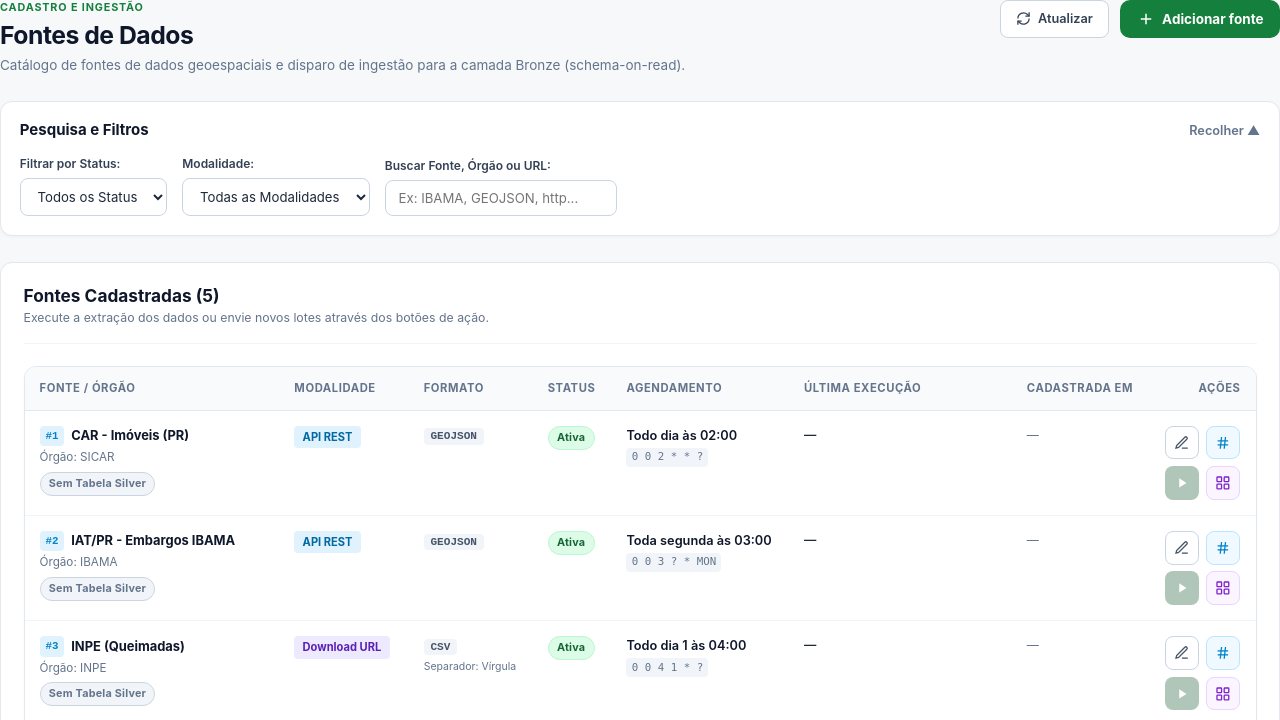
Scenario: CadastroFontes — editar e agendamento (LIZARDS-55) › com a atualização automática ligada e sem horário escolhido, o salvar fica bloqueado
This screenshot has width=1280, height=720.
Click the button with class "btn-adicionar-fonte" at (1200, 19), box x1=1120 y1=0 x2=1279 y2=38
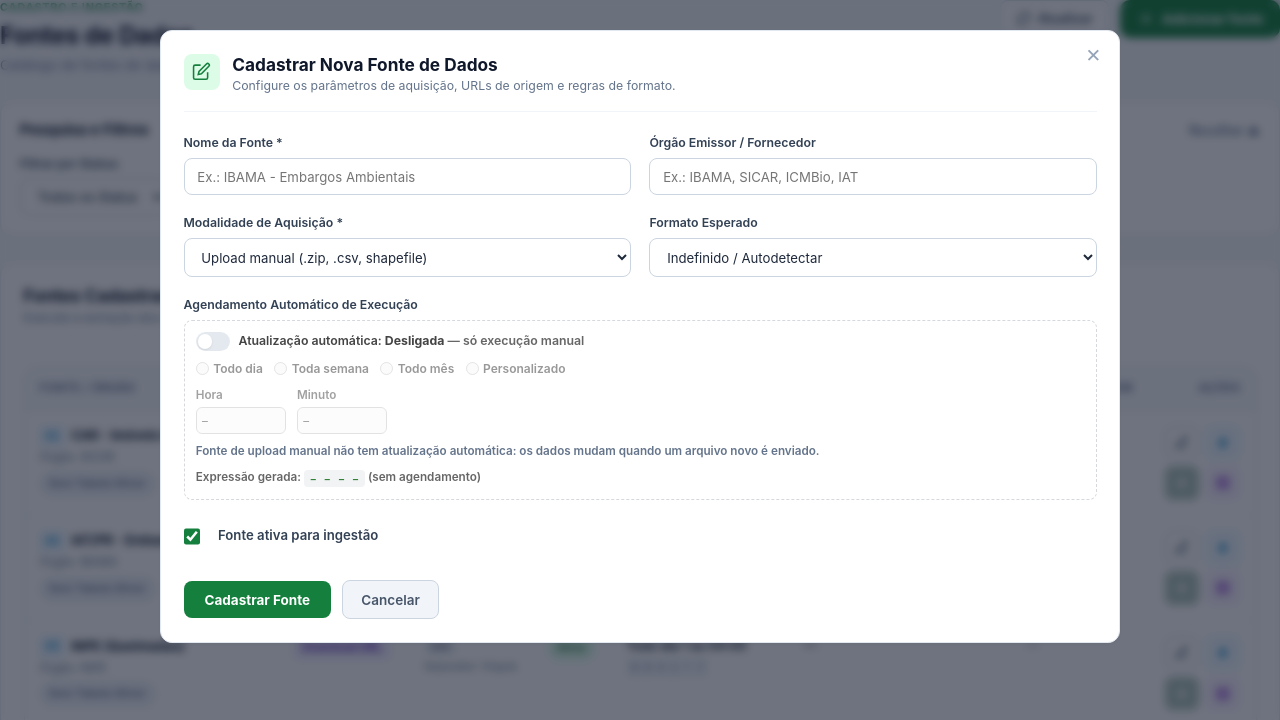
Result: the submit button is enabled at x1=184 y1=581 x2=331 y2=618
Select "API REST / GeoServer WFS" in the dropdown with class "campo-select" showing "Modalidade de Aquisição *" at (407, 258), box x1=184 y1=238 x2=631 y2=277
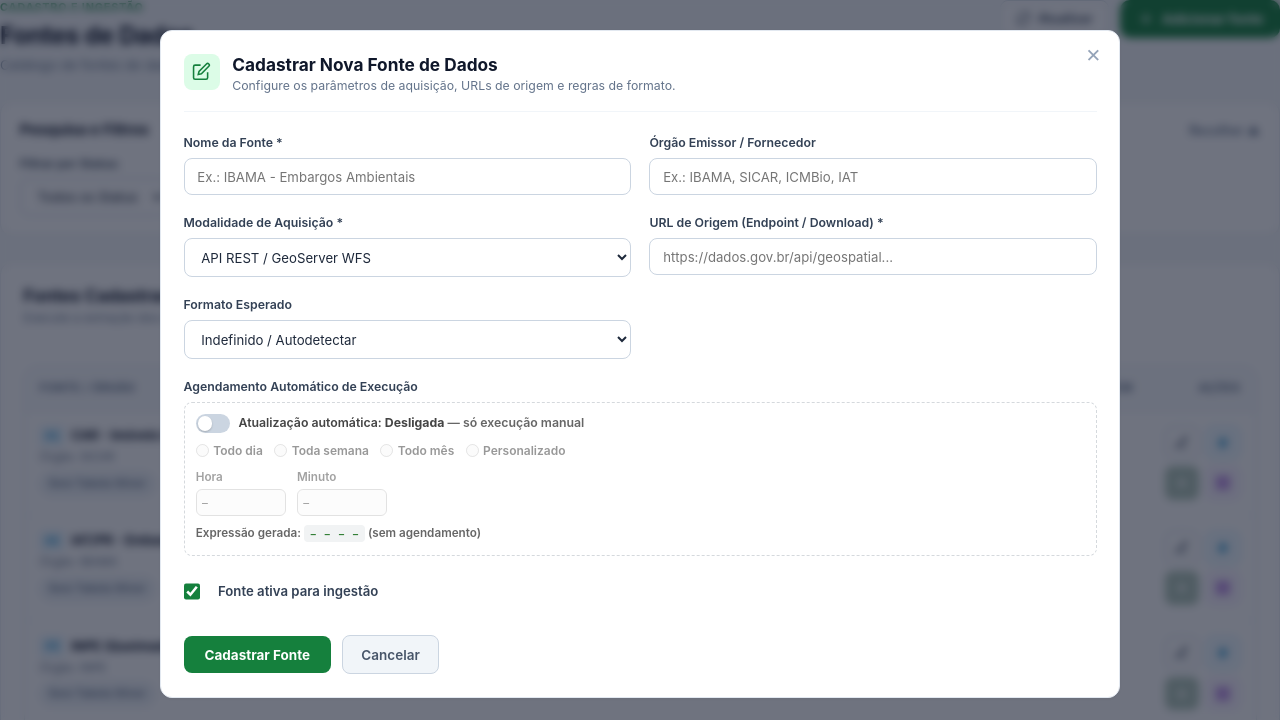
Click the switch with class "interruptor-entrada" at (390, 423), box x1=196 y1=414 x2=584 y2=433
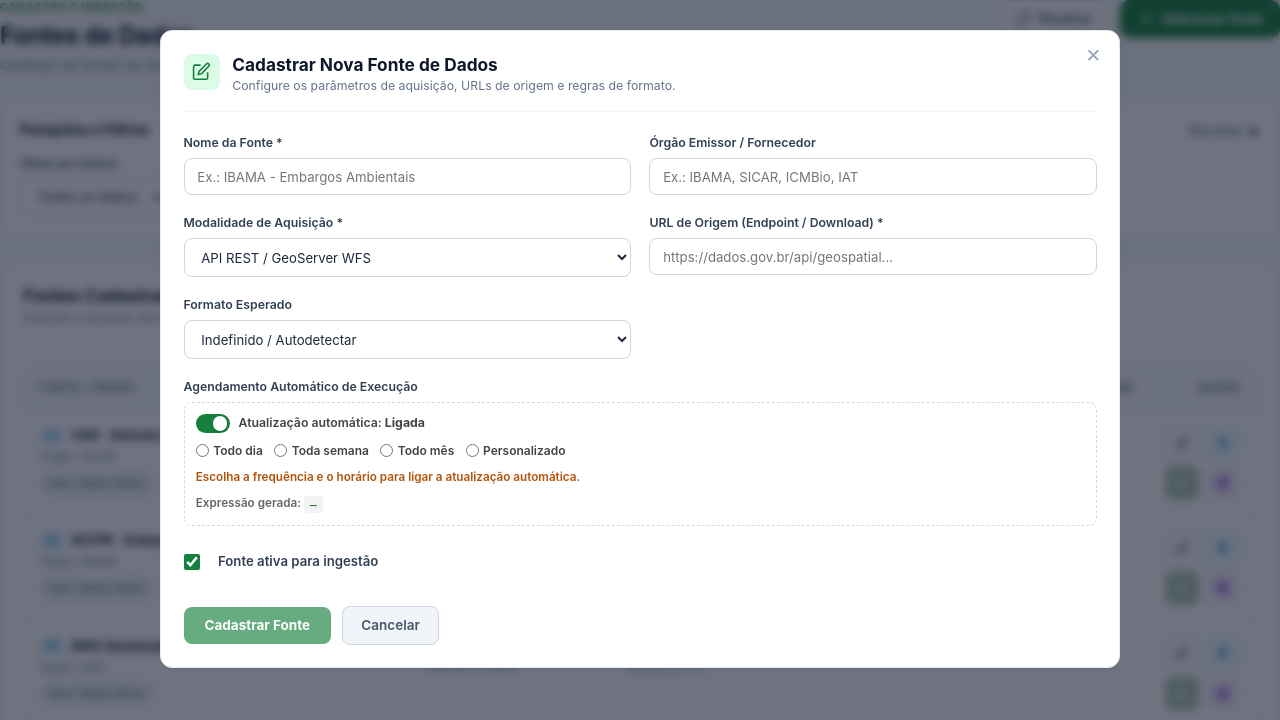
Result: the submit button is disabled at x1=184 y1=607 x2=331 y2=644
